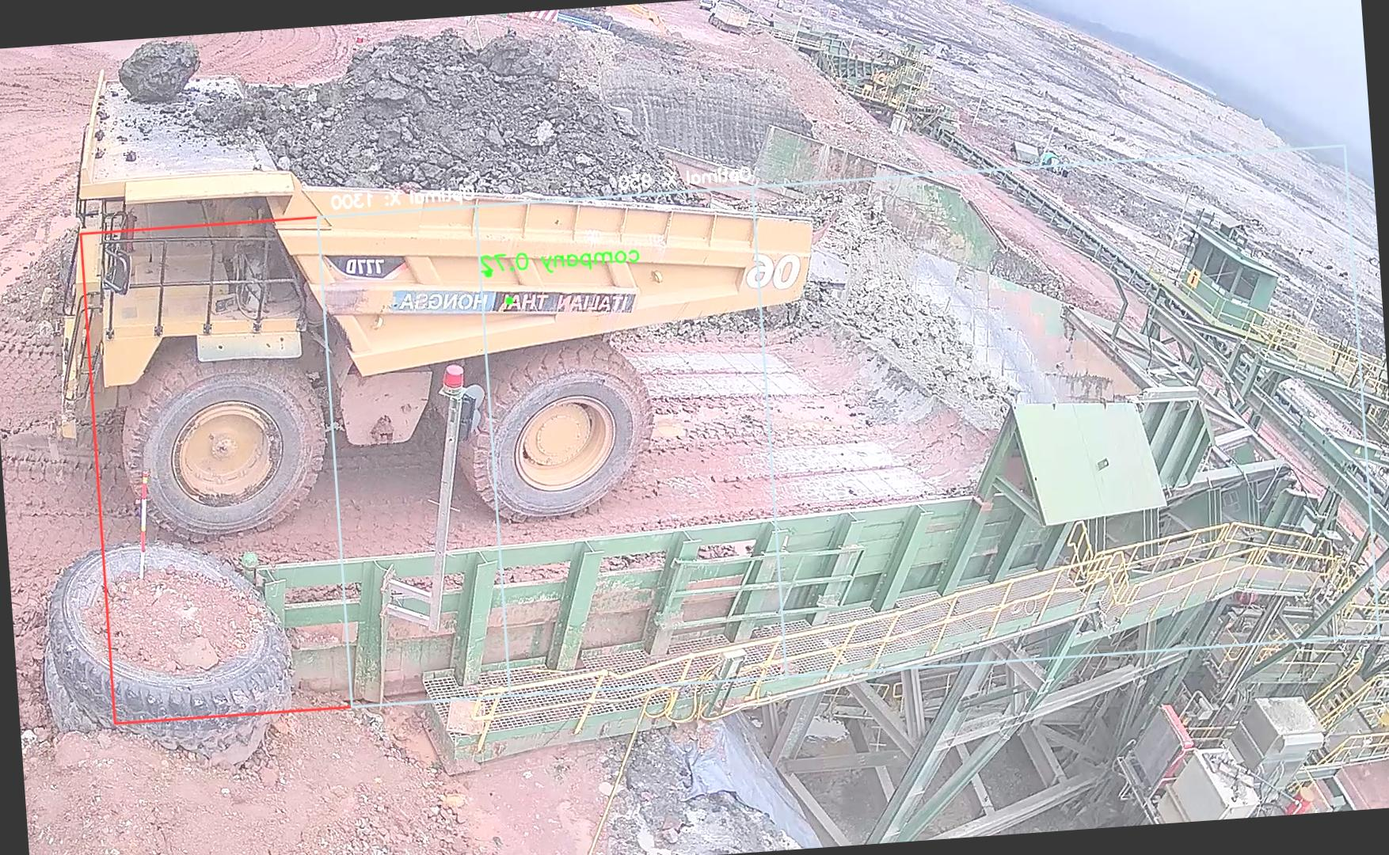company: (373, 263, 643, 329)
full_load: (273, 23, 625, 229)
mining_truck: (15, 0, 837, 546)
tail_number: (739, 240, 811, 300)
truck_size: (322, 249, 411, 284)
